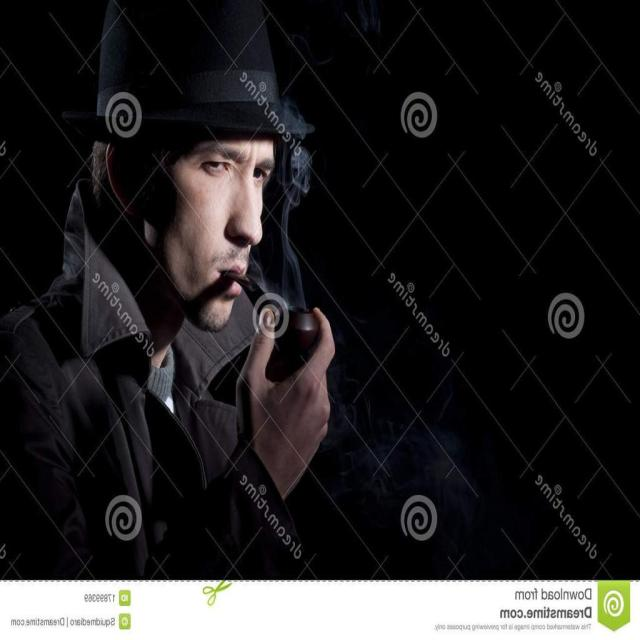smoking: (93, 7, 349, 407)
